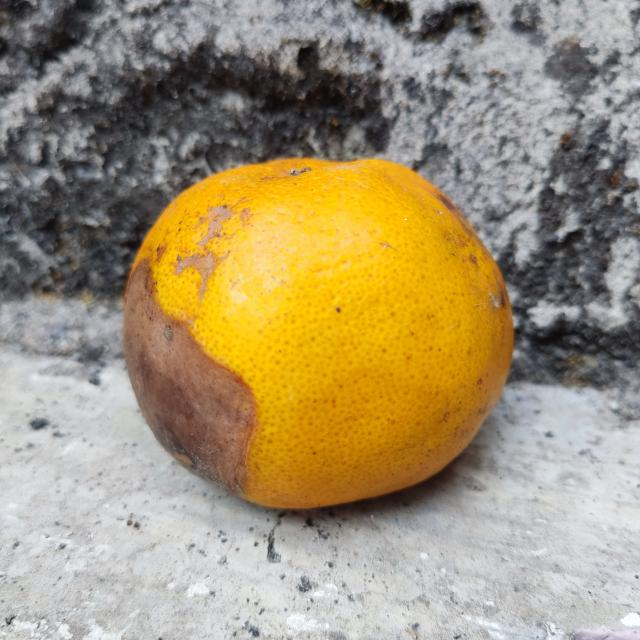orange: (119, 158, 515, 511)
